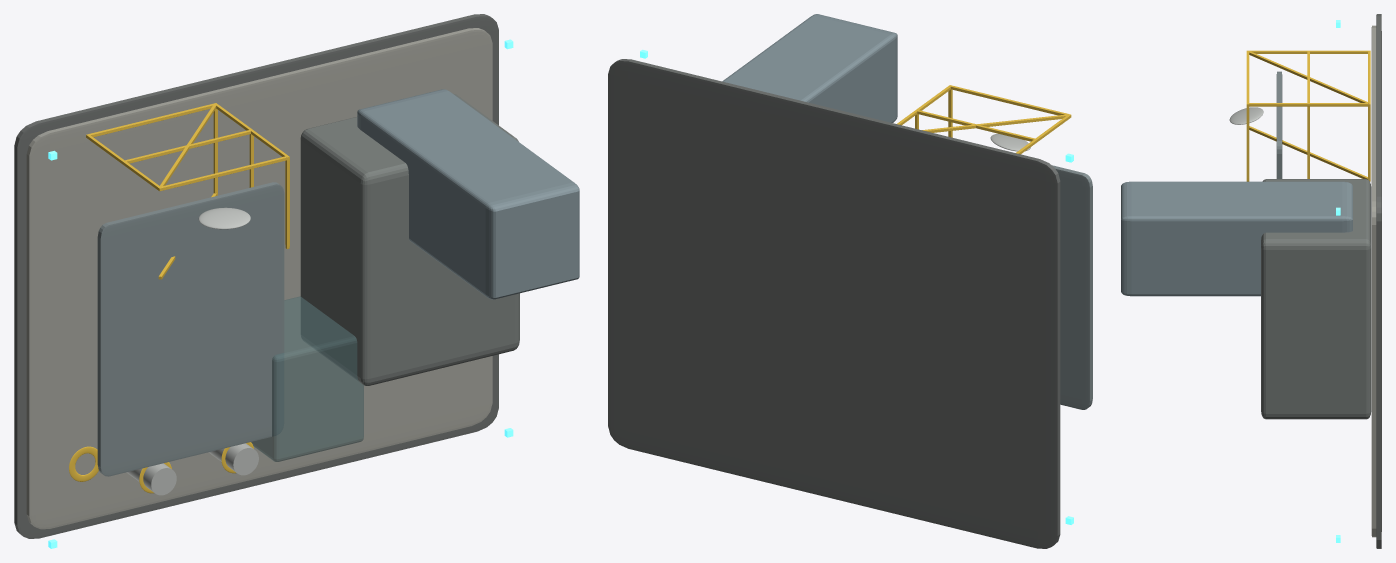
The model's file is b-25-tech-lab-lod2.glb.
3 renders of one model, left to right at view 1: azimuth 30°, elevation 25°; view 2: azimuth 150°, elevation 25°; view 3: azimuth 270°, elevation 25°, orthographic. The views are drawn at different scales.
Visible parts, largest first — view 1: foundation_inner_pad, lab_west_roof, lab_east_main_hall, laboratory_tower, foundation, primary_glass_atrium, cryogenic_tank_3_vessel, cryogenic_tank_1_vessel, lab_sensor_dish; view 2: foundation, laboratory_tower, lab_west_roof, outdoor_test_rig_brace_b_1.5; view 3: lab_east_main_hall, laboratory_tower, foundation, foundation_inner_pad, lab_west_roof, outdoor_test_rig_brace_b_1.5, outdoor_test_rig_brace_b_-1.5, outdoor_test_rig_column_e_n, outdoor_test_rig_column_w_n, lab_sensor_dish.
Part boxes in pixels (left/top/right/bottom): foundation_inner_pad: left=26, top=28, right=492, bottom=529; lab_west_roof: left=97, top=182, right=284, bottom=476; lab_east_main_hall: left=300, top=93, right=519, bottom=385; laboratory_tower: left=357, top=89, right=579, bottom=299; foundation: left=14, top=14, right=498, bottom=538; primary_glass_atrium: left=251, top=296, right=363, bottom=461; cryogenic_tank_3_vessel: left=209, top=443, right=258, bottom=475; cryogenic_tank_1_vessel: left=126, top=463, right=176, bottom=495; lab_sensor_dish: left=198, top=207, right=250, bottom=229; foundation: left=608, top=59, right=1060, bottom=548; laboratory_tower: left=722, top=14, right=897, bottom=122; lab_west_roof: left=1052, top=165, right=1092, bottom=409; outdoor_test_rig_brace_b_1.5: left=922, top=114, right=1066, bottom=132; lab_east_main_hall: left=1261, top=179, right=1371, bottom=419; laboratory_tower: left=1121, top=181, right=1352, bottom=296; foundation: left=1376, top=14, right=1381, bottom=548; foundation_inner_pad: left=1371, top=25, right=1376, bottom=537; lab_west_roof: left=1276, top=71, right=1282, bottom=178; outdoor_test_rig_brace_b_1.5: left=1249, top=51, right=1367, bottom=102; outdoor_test_rig_brace_b_-1.5: left=1249, top=126, right=1367, bottom=179; outdoor_test_rig_column_e_n: left=1249, top=103, right=1368, bottom=106; outdoor_test_rig_column_w_n: left=1249, top=50, right=1368, bottom=53; lab_sensor_dish: left=1229, top=107, right=1263, bottom=124.
Size of what is drawn, in the model's own units: 17 by 14 by 9.45.
